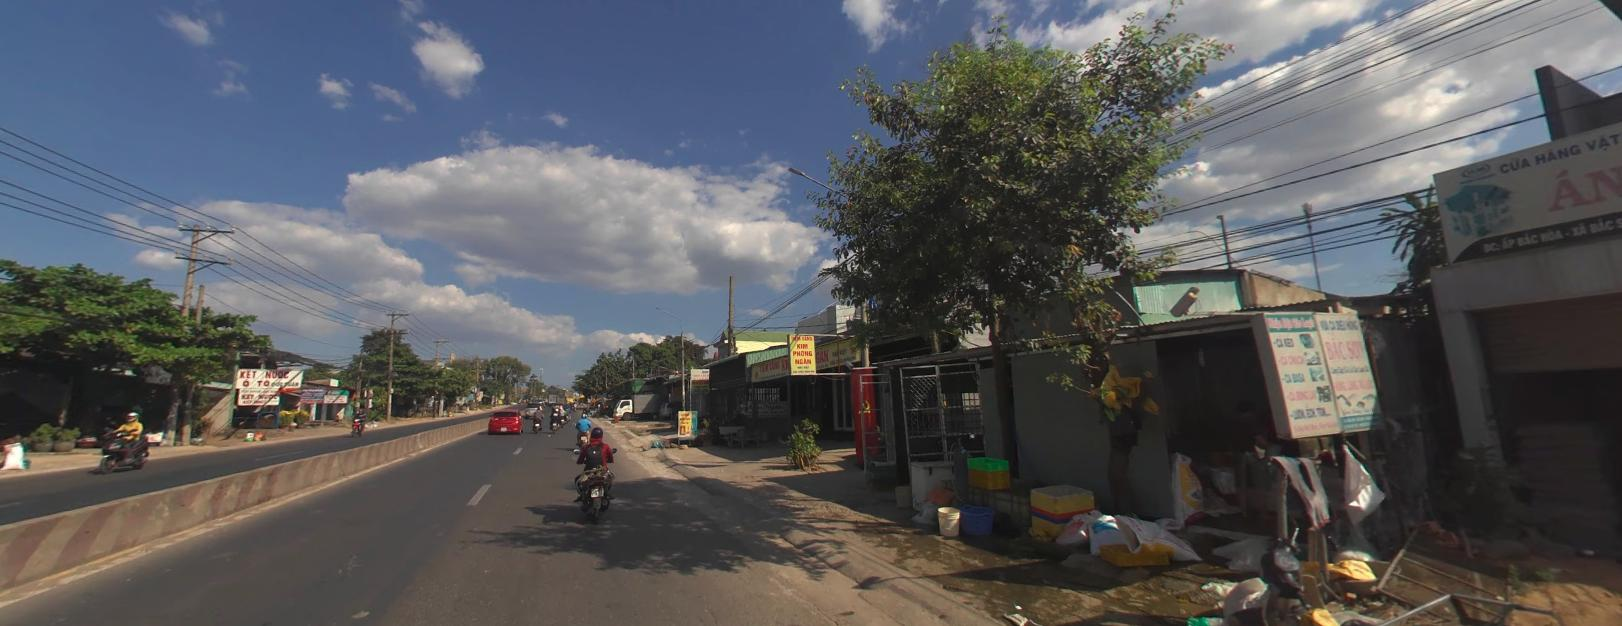Nguy hiem: (590, 396, 596, 402)
